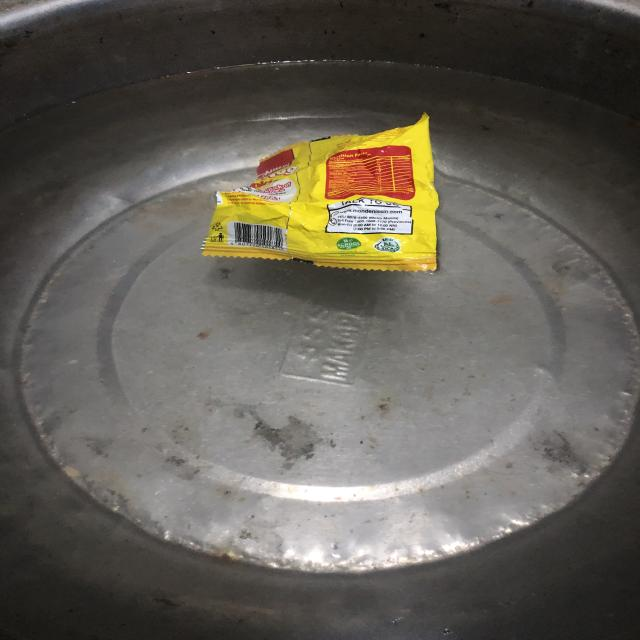Plastic Wrapper: (193, 126, 460, 293)
